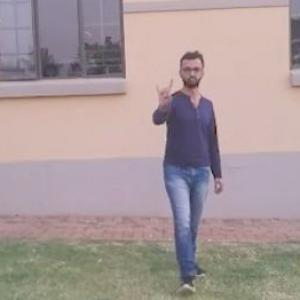takeoff-hand: (150, 73, 177, 111)
